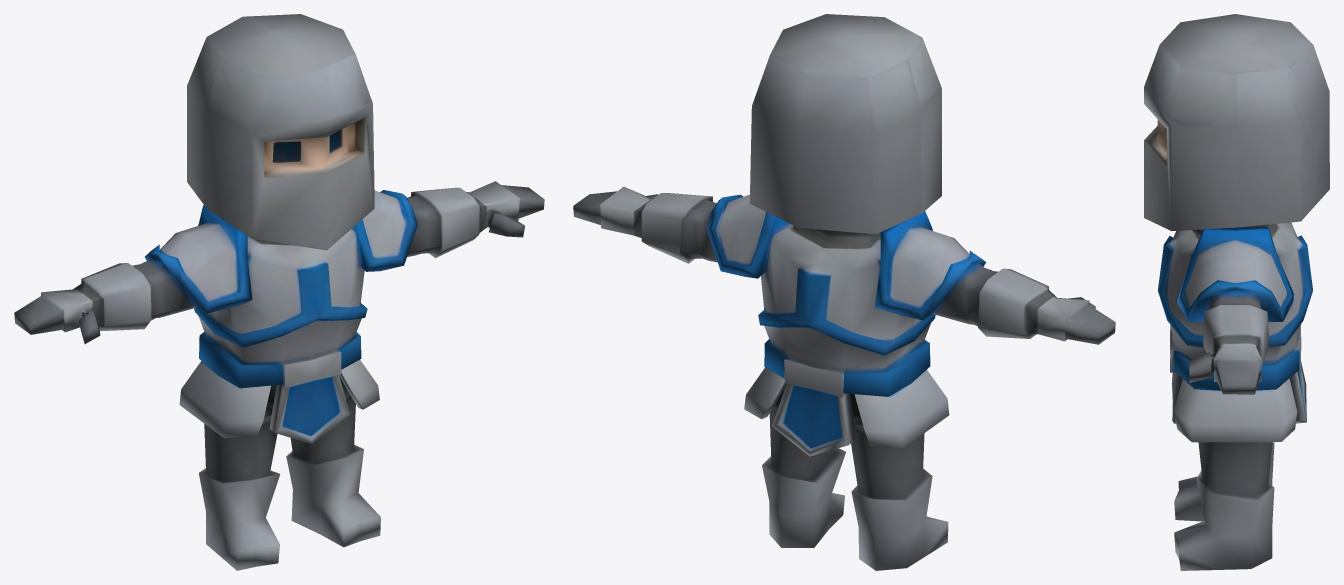
3 renders of one model, left to right at view 1: azimuth 30°, elevation 25°; view 2: azimuth 150°, elevation 25°; view 3: azimuth 270°, elevation 25°, orthographic. The views are drawn at different scales.
Visible parts, largest first — view 1: geometry_0; view 2: geometry_0; view 3: geometry_0.
Part boxes in pixels (<box>): geometry_0: <box>14,14,544,570</box>; geometry_0: <box>573,14,1115,570</box>; geometry_0: <box>1144,14,1329,570</box>.
Size of the model in its own units: 0.9575 by 0.8862 by 0.2979.
1 material, 1 textured.
